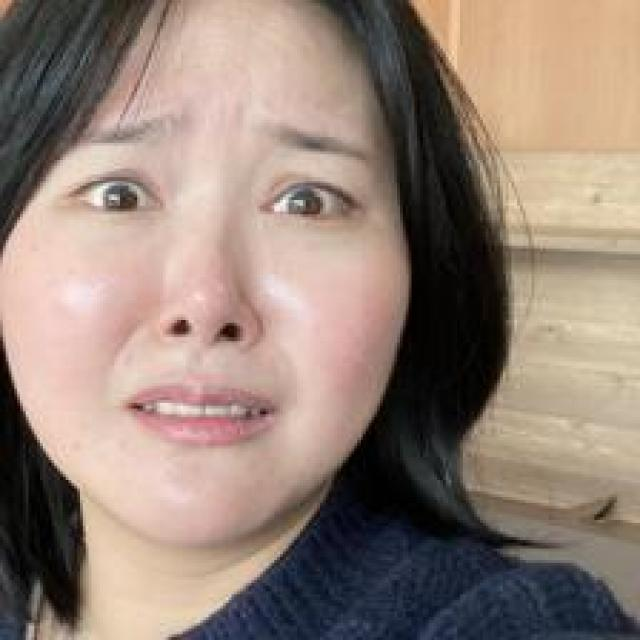fear: (19, 70, 368, 545)
